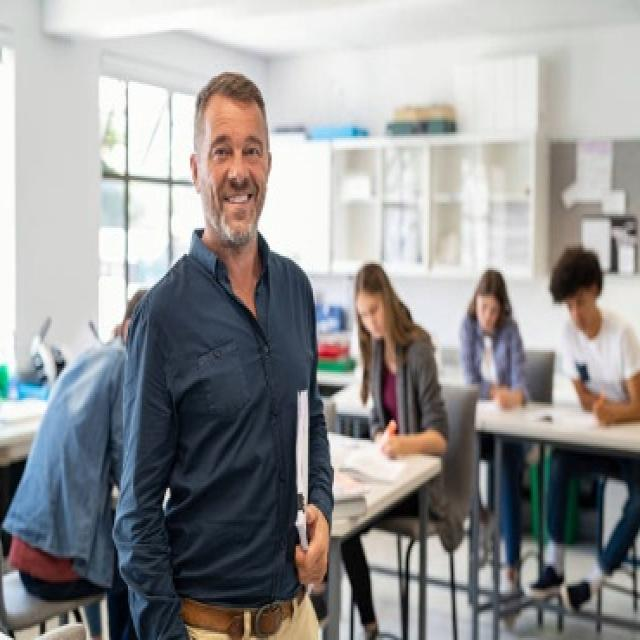adult: (122, 72, 333, 639), (341, 248, 447, 481), (541, 222, 640, 452), (464, 245, 526, 414)
